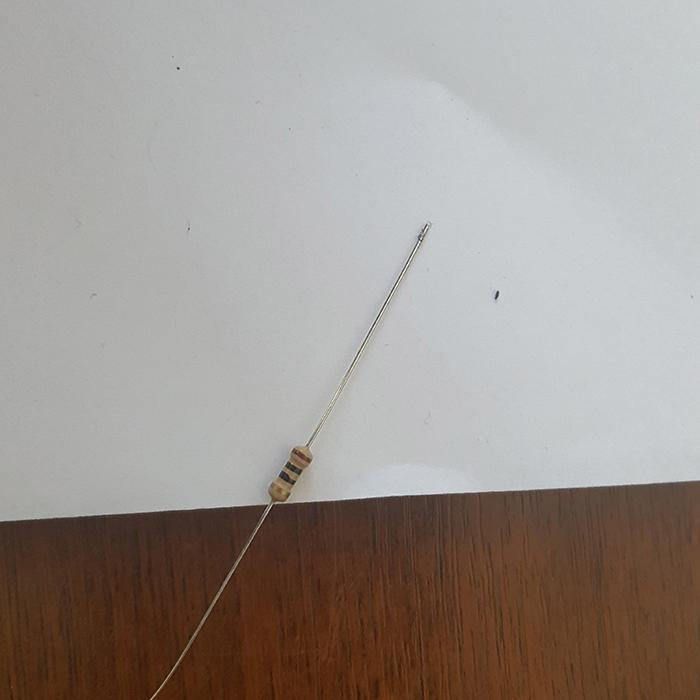resistor: (268, 443, 313, 503)
